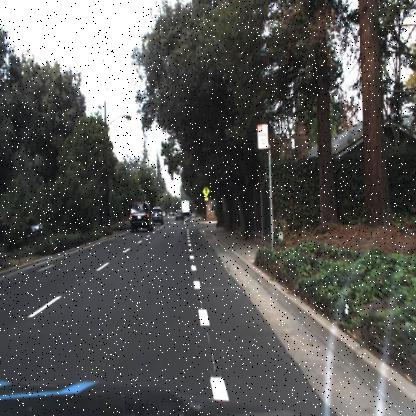car: (128, 201, 153, 232), (150, 205, 164, 229), (180, 198, 190, 216), (173, 209, 185, 222)
truck: (178, 196, 192, 222)
